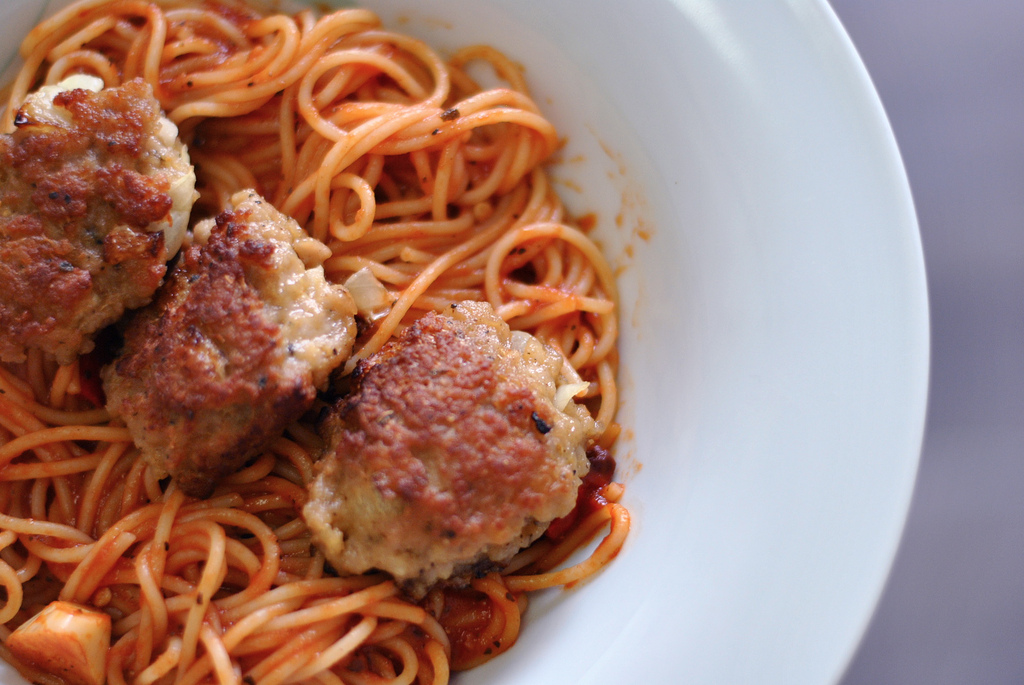meatballs: (331, 327, 584, 570), (118, 227, 344, 456), (1, 98, 189, 324)
plain spaghetti: (2, 357, 433, 685), (169, 12, 622, 324)
